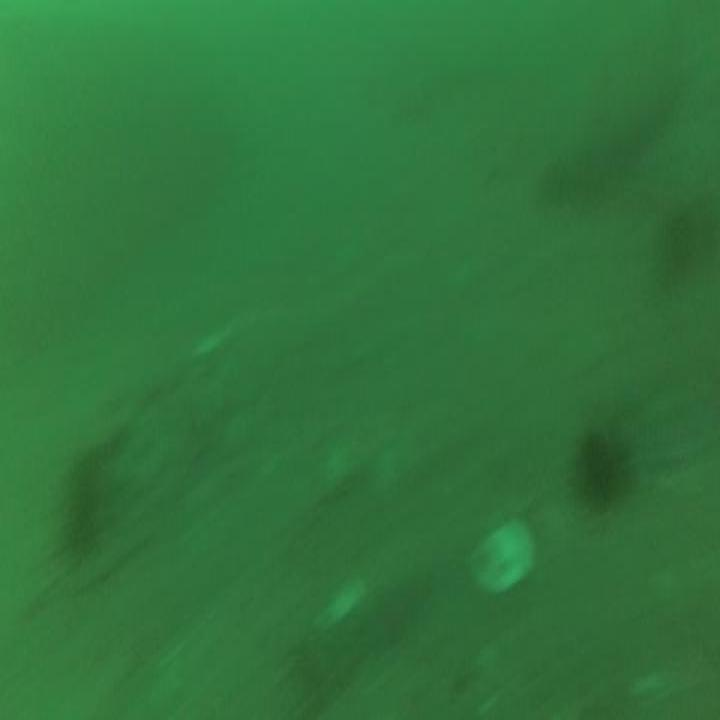echinus: (570, 414, 624, 519), (61, 459, 104, 551)
scallop: (466, 510, 535, 604)
